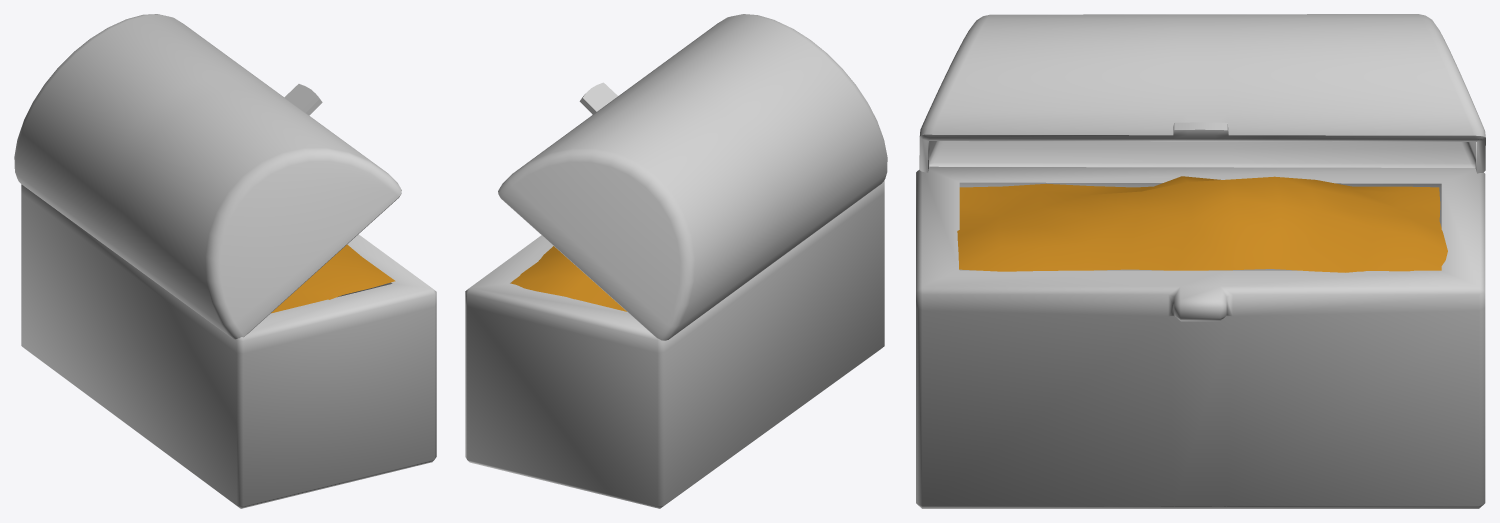
File: chest_lp.obj
3 renders of one model, left to right at view 1: azimuth 30°, elevation 25°; view 2: azimuth 150°, elevation 25°; view 3: azimuth 270°, elevation 25°, orthographic. The views are drawn at different scales.
Parts seen in each view (by area): view 1: Chest_Base_lp, Chest_Lid_lp, coin2_lp; view 2: Chest_Base_lp, Chest_Lid_lp, coin2_lp; view 3: Chest_Base_lp, Chest_Lid_lp, coin2_lp.
Boxes of the visible parts, box(x1,y1,x2,y2) form: Chest_Base_lp: box(21, 184, 436, 508); Chest_Lid_lp: box(14, 14, 401, 339); coin2_lp: box(271, 244, 395, 313); Chest_Base_lp: box(465, 180, 884, 508); Chest_Lid_lp: box(498, 14, 887, 340); coin2_lp: box(510, 246, 626, 311); Chest_Base_lp: box(916, 166, 1485, 508); Chest_Lid_lp: box(919, 14, 1485, 173); coin2_lp: box(957, 176, 1447, 272).
Size of the model in its own units: 0.5594 by 0.7356 by 0.9177.
